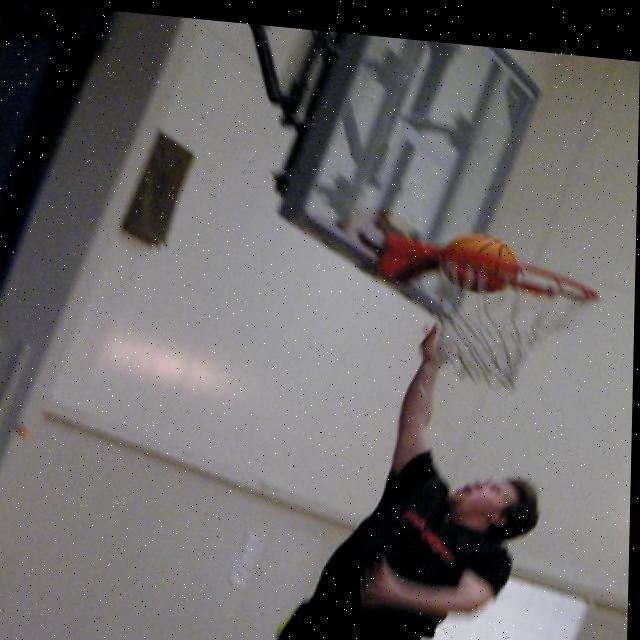basketball: (439, 229, 515, 295)
hoop: (436, 247, 601, 307)
